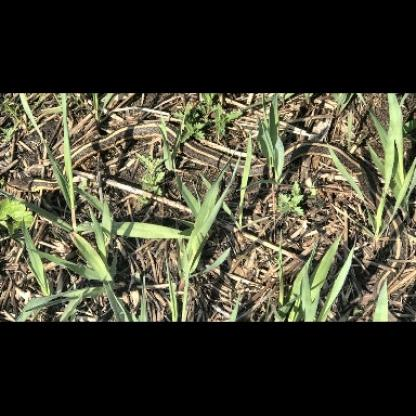Snake: (4, 116, 378, 192)
